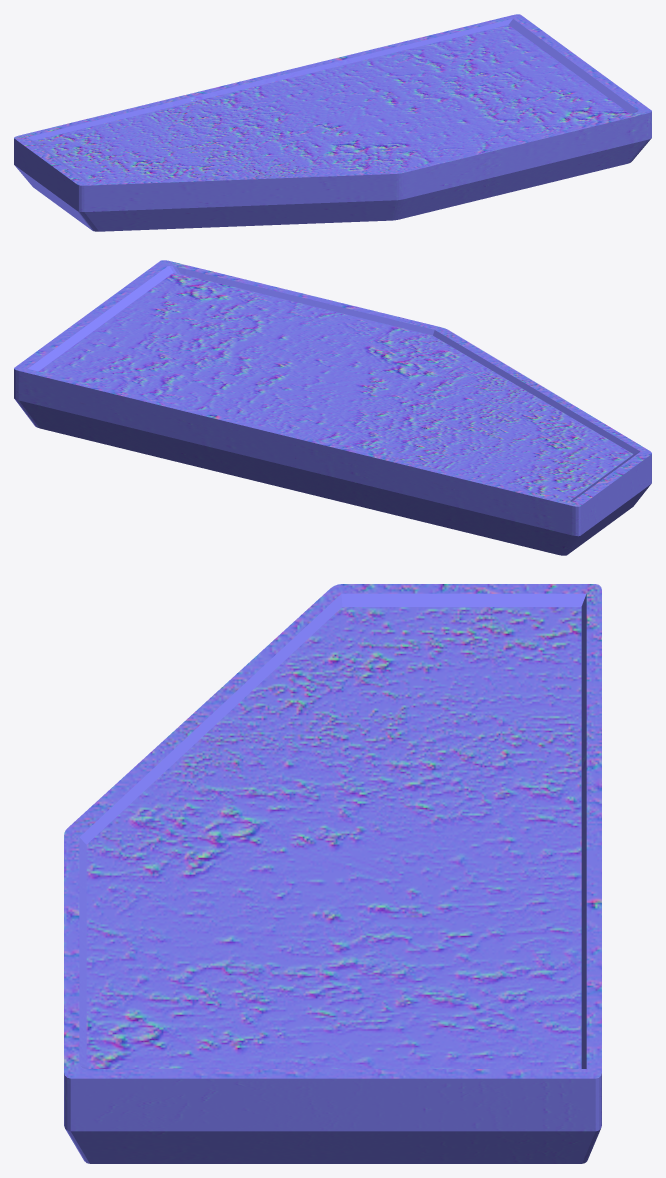
The model's file is Deco c.fbx.
3 renders of one model, top to bottom at view 1: azimuth 30°, elevation 25°; view 2: azimuth 150°, elevation 25°; view 3: azimuth 270°, elevation 25°, orthographic. The views are drawn at different scales.
Parts seen in each view (by area): view 1: Cube.031; view 2: Cube.031; view 3: Cube.031.
Boxes of the visible parts, x1,y1,x2,y2 form: Cube.031: (14, 14, 651, 231); Cube.031: (14, 260, 651, 555); Cube.031: (64, 584, 601, 1163).
Size of the model in its own units: 2718 by 258 by 1249.
